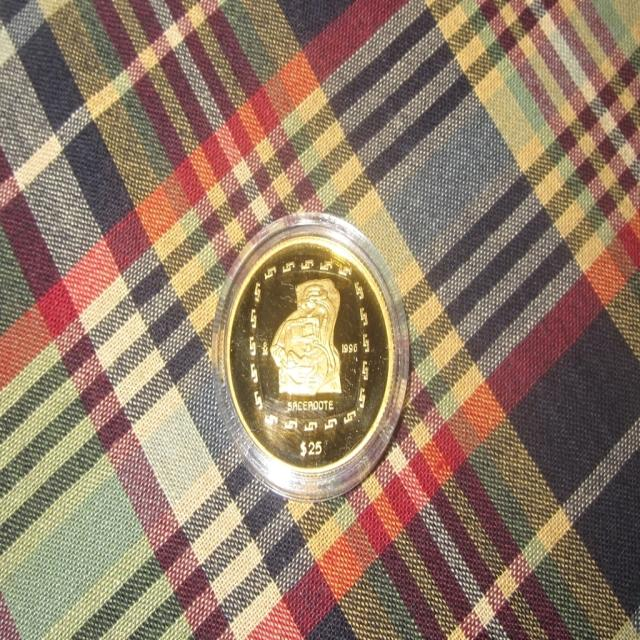Coin: (225, 226, 394, 467)
